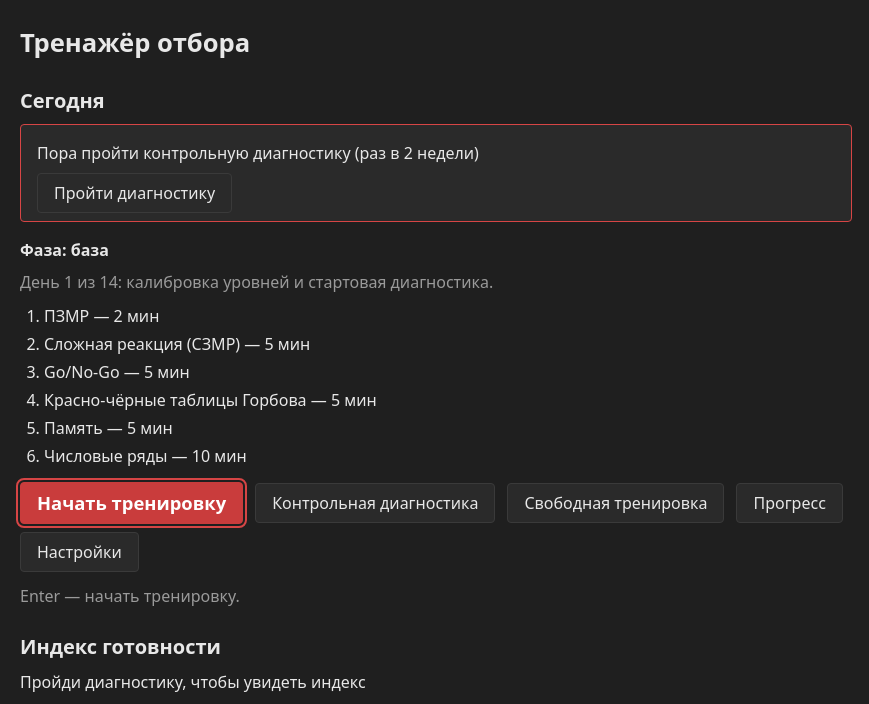
App › goes to settings and back
Click the button "Настройки" at (79, 552), box [20, 532, 139, 572]
(page scrolled)
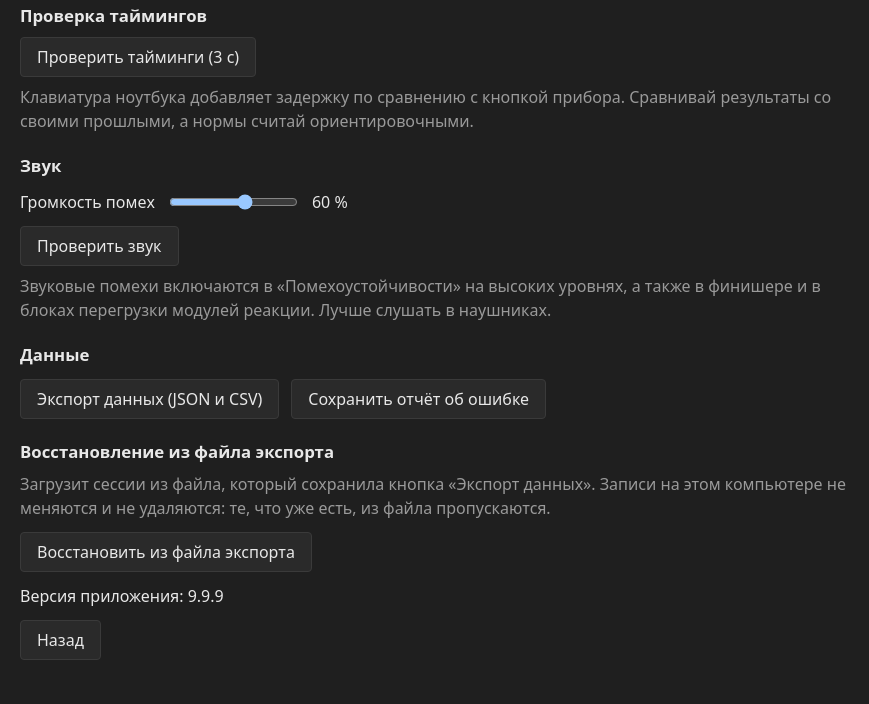
Click the button "Назад" at (60, 640), box [20, 620, 101, 660]
(page scrolled)
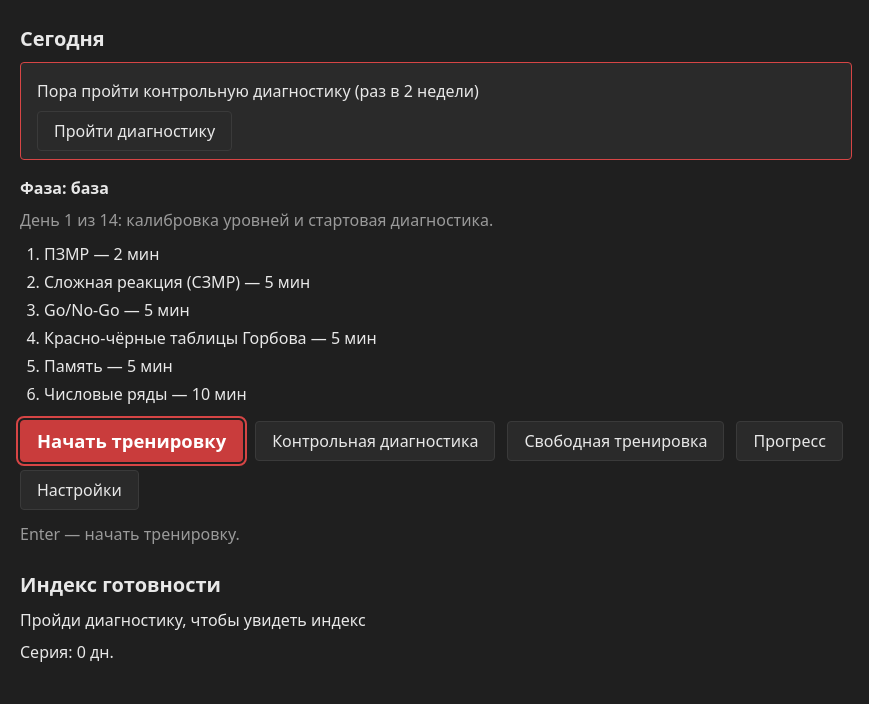
expect the button "Начать тренировку" is shown: met, box [20, 420, 243, 462]
